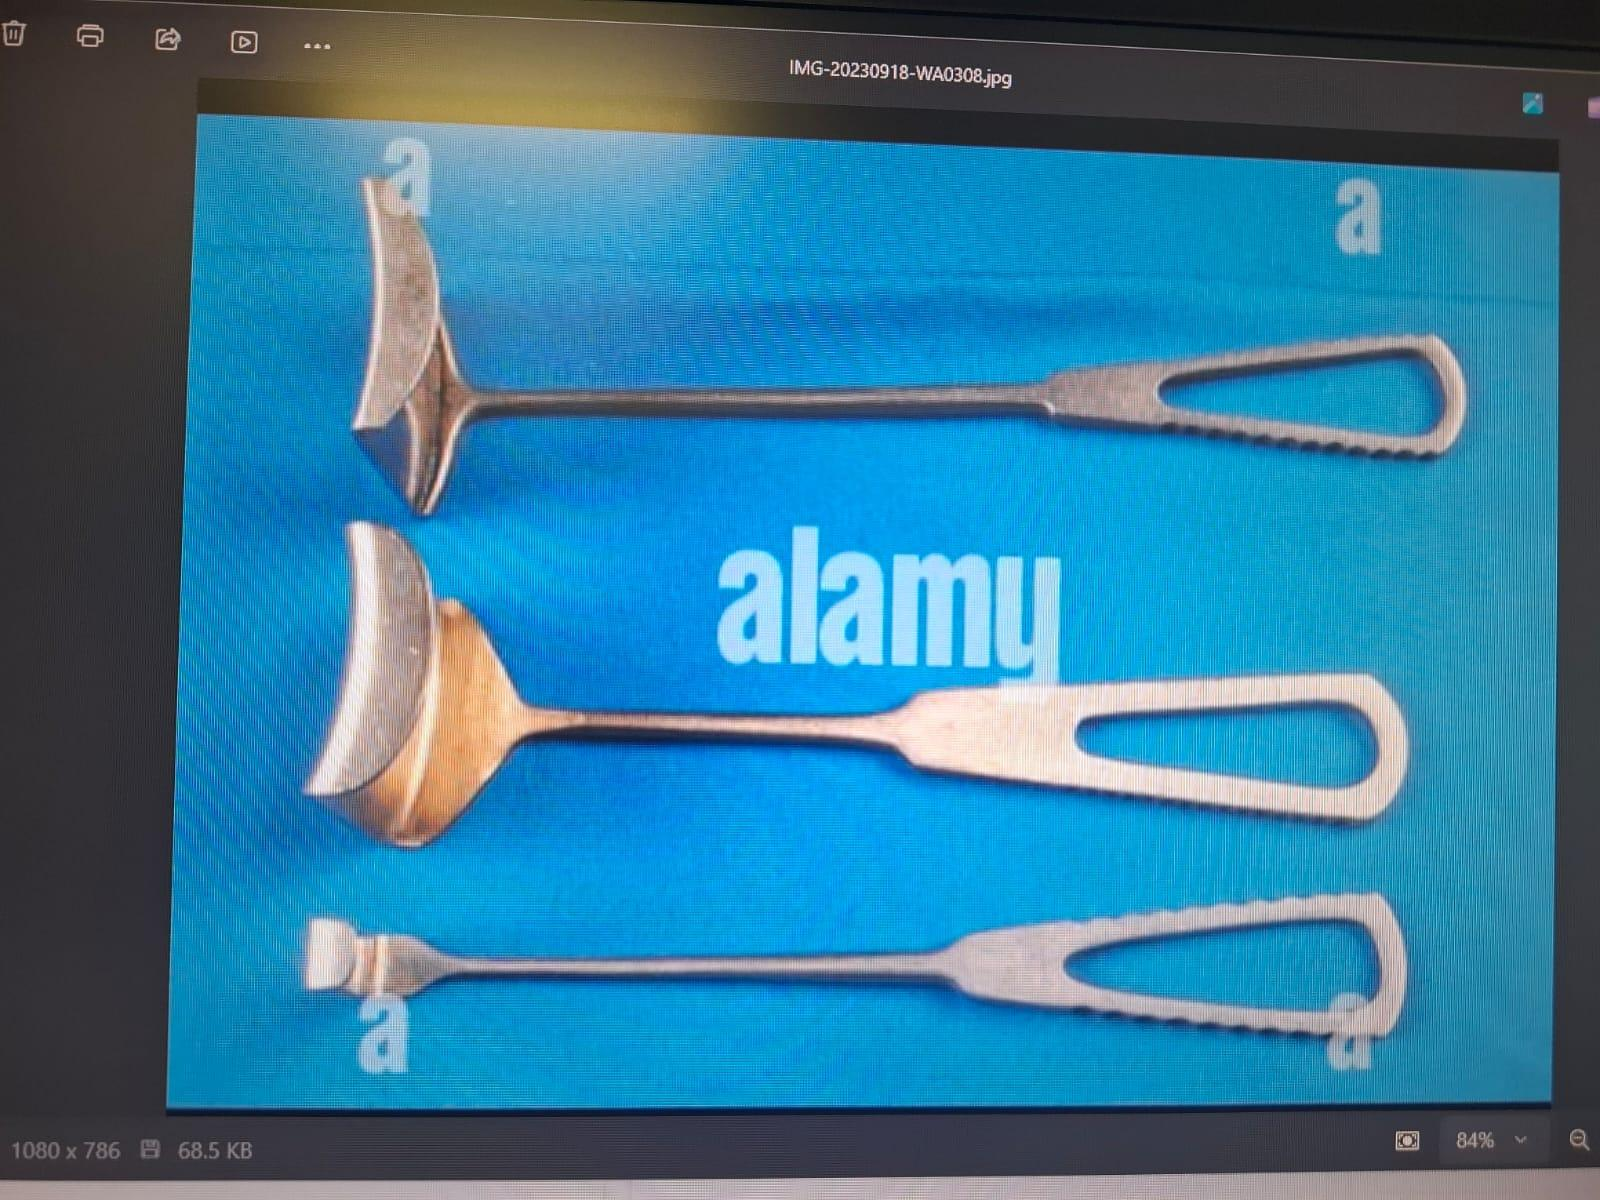Morris Retractor: (346, 160, 1487, 522), (294, 505, 1414, 858)
